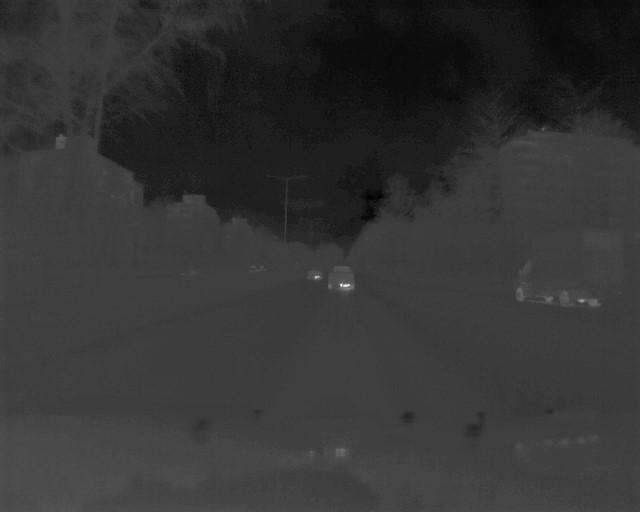car: (511, 250, 611, 310), (326, 265, 358, 293)
